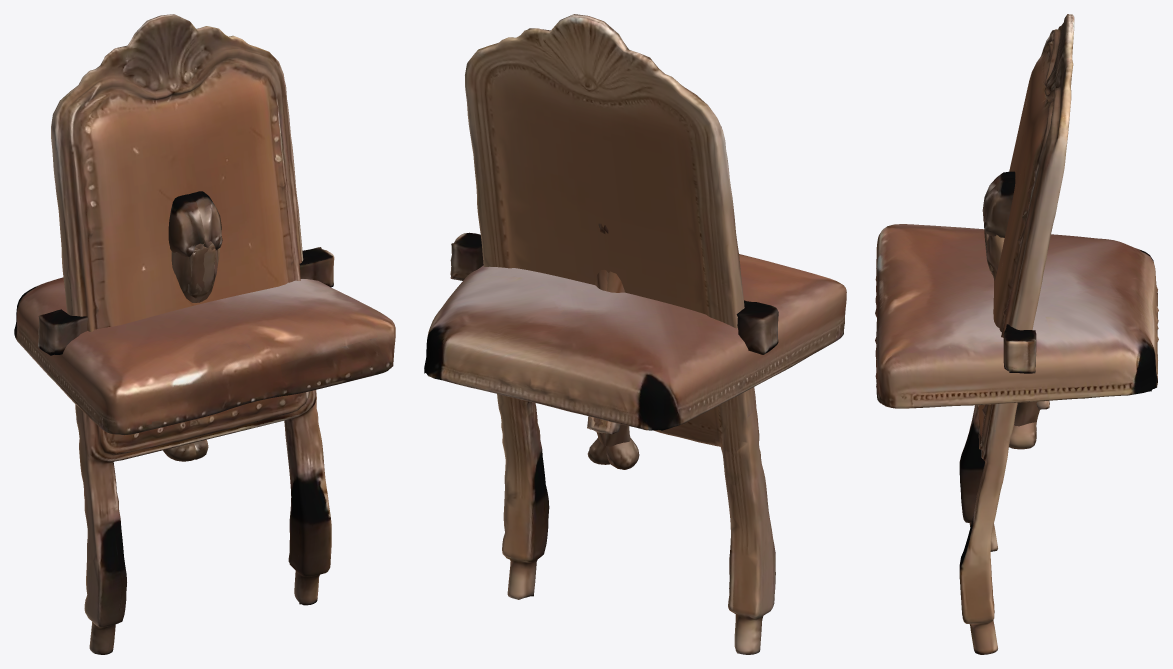
3 renders of one model, left to right at view 1: azimuth 30°, elevation 25°; view 2: azimuth 150°, elevation 25°; view 3: azimuth 270°, elevation 25°, orthographic. The views are drawn at different scales.
Visible parts, largest first — view 1: root.0, root.1, root.2, root.3, root.4, root.9, root.6; view 2: root.0, root.1, root.2, root.4, root.3; view 3: root.1, root.0, root.4, root.2, root.3.
Boxes of the visible parts, box(x1,y1,x2,y2) form: root.0: box(51, 14, 331, 654); root.1: box(14, 277, 395, 435); root.2: box(38, 247, 334, 355); root.3: box(168, 194, 220, 459); root.4: box(163, 191, 222, 461); root.9: box(187, 243, 215, 302); root.6: box(189, 245, 215, 302); root.0: box(465, 14, 775, 654); root.1: box(424, 254, 846, 430); root.2: box(450, 232, 778, 354); root.4: box(596, 225, 639, 469); root.3: box(587, 223, 630, 464); root.1: box(875, 224, 1158, 408); root.0: box(959, 14, 1074, 654); root.4: box(982, 178, 1039, 430); root.2: box(1003, 324, 1036, 373); root.3: box(982, 171, 1036, 449).
Bounding box in the file's own units: 14703 × 28130 × 12440.
1 material, 1 textured.
